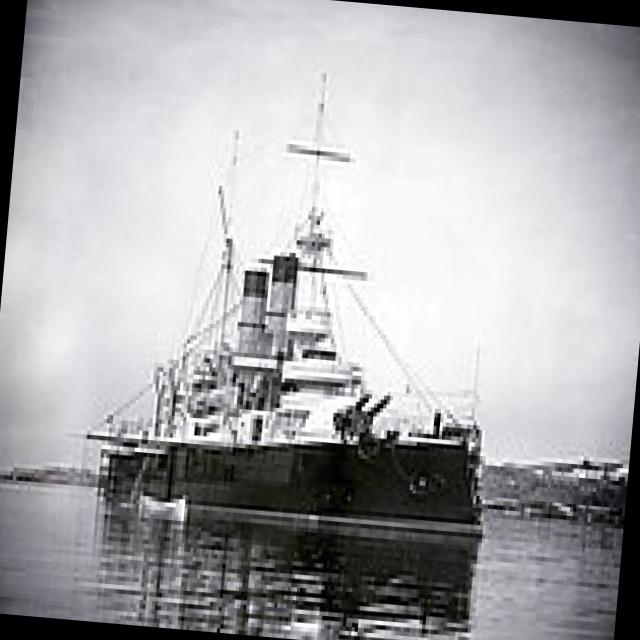boat: (72, 338, 506, 546)
